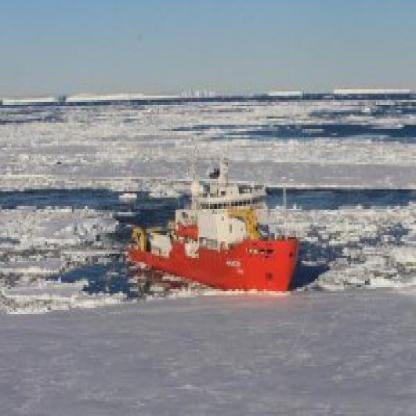fish-b: (120, 185, 311, 304)
